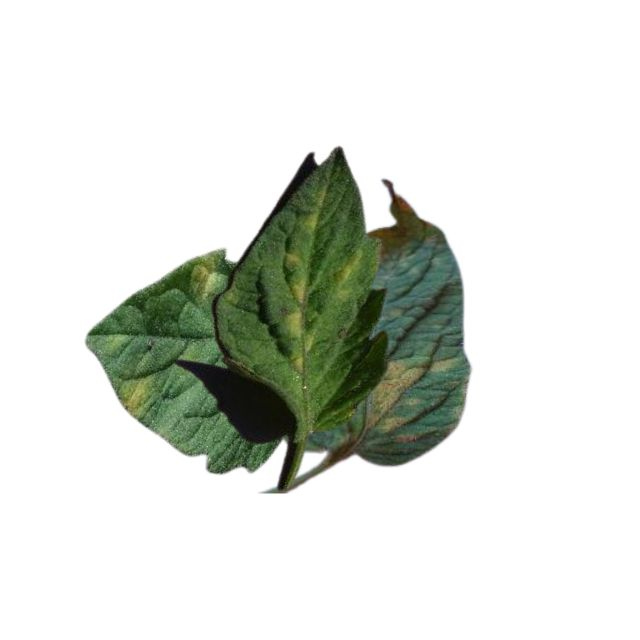Leaf_Mold: (364, 352, 461, 444), (283, 188, 324, 373), (114, 366, 156, 418), (330, 246, 366, 299), (187, 251, 224, 299)
